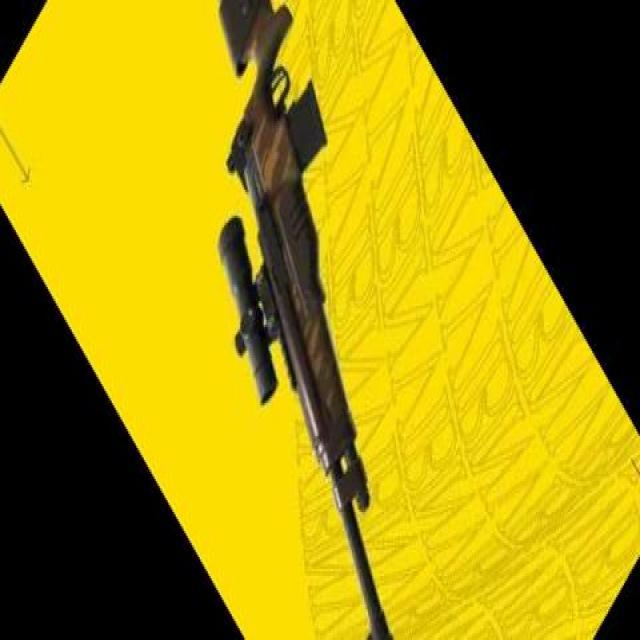weapon: (217, 0, 394, 640)
